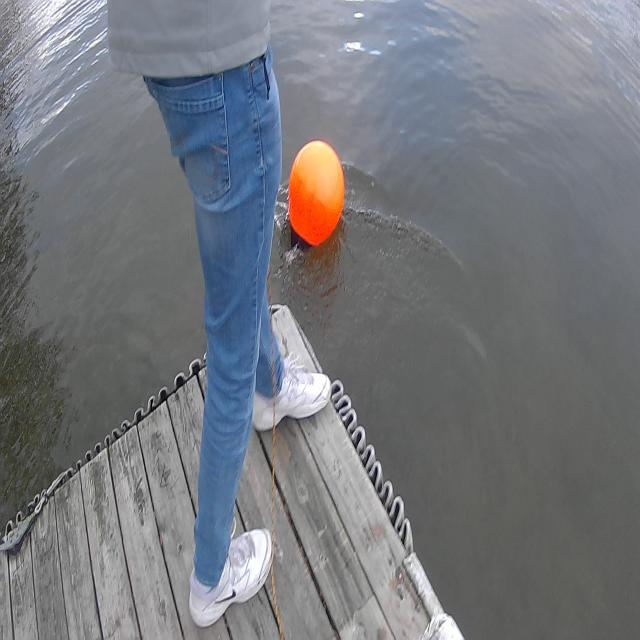Buoy: (287, 141, 346, 249)
